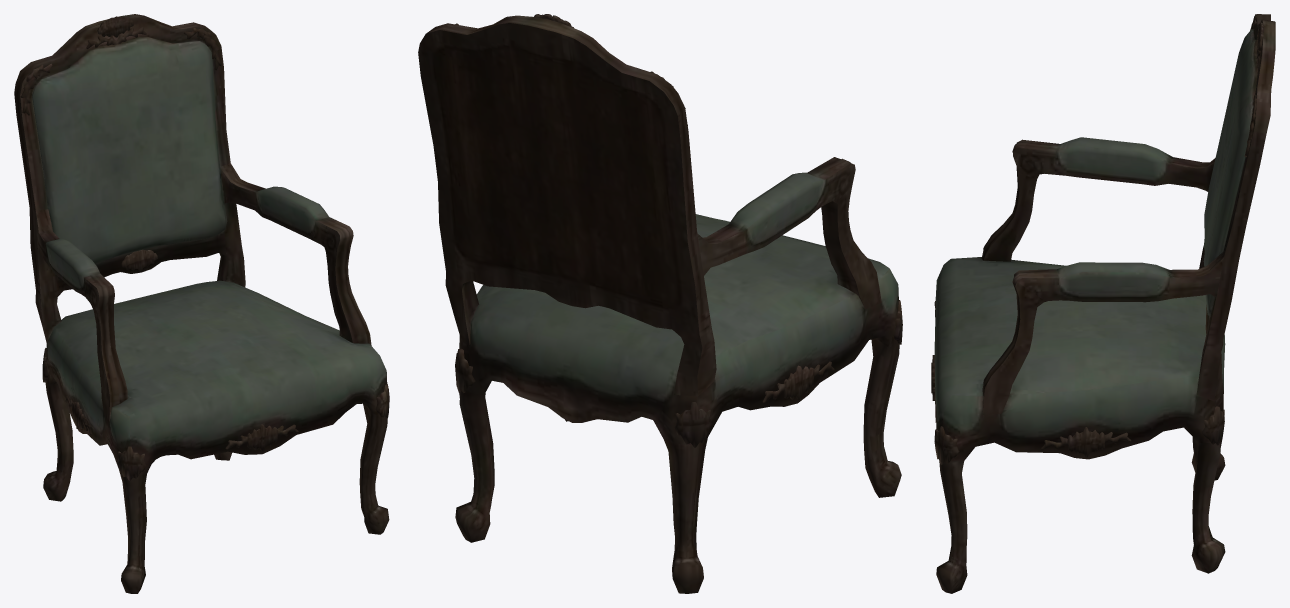
The model's file is GreenChair_01.glb.
3 renders of one model, left to right at view 1: azimuth 30°, elevation 25°; view 2: azimuth 150°, elevation 25°; view 3: azimuth 270°, elevation 25°, orthographic. The views are drawn at different scales.
Parts seen in each view (by area): view 1: GreenChair_01; view 2: GreenChair_01; view 3: GreenChair_01.
Part boxes in pixels (x1,y1,x2,y2): GreenChair_01: (14,14,389,593); GreenChair_01: (418,14,902,593); GreenChair_01: (931,14,1275,593).
Size of the model in its own units: 0.6732 by 1.06 by 0.6644.
1 material, 1 textured.
